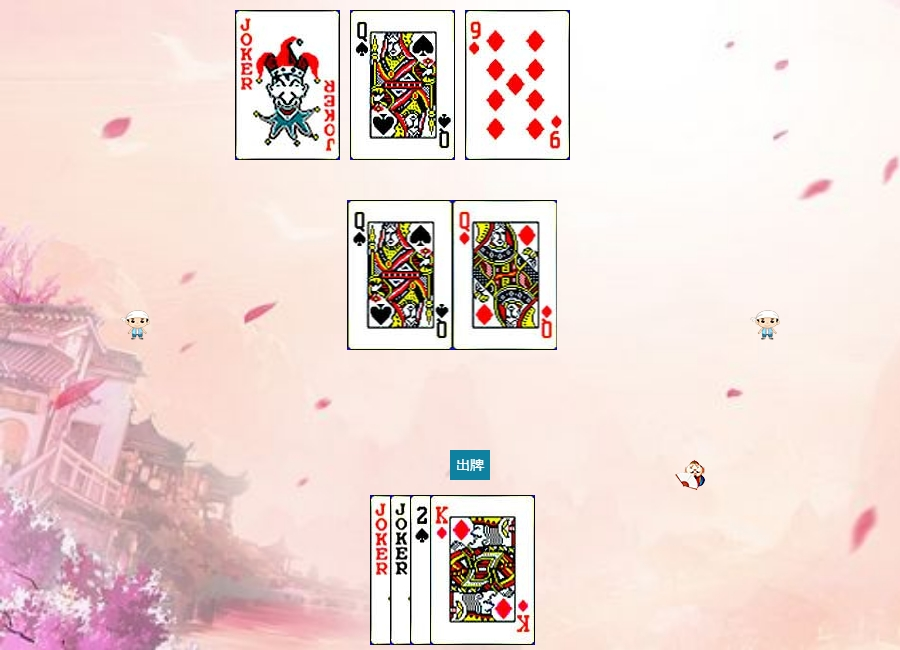12~1: (453, 200, 558, 350)
12~4: (350, 10, 455, 160), (348, 200, 453, 350)
13~1: (430, 495, 535, 645)
15~4: (410, 495, 515, 645)
17~3: (390, 495, 495, 645)
18~4: (235, 10, 340, 160), (370, 495, 475, 645)
9~1: (465, 10, 570, 160)
